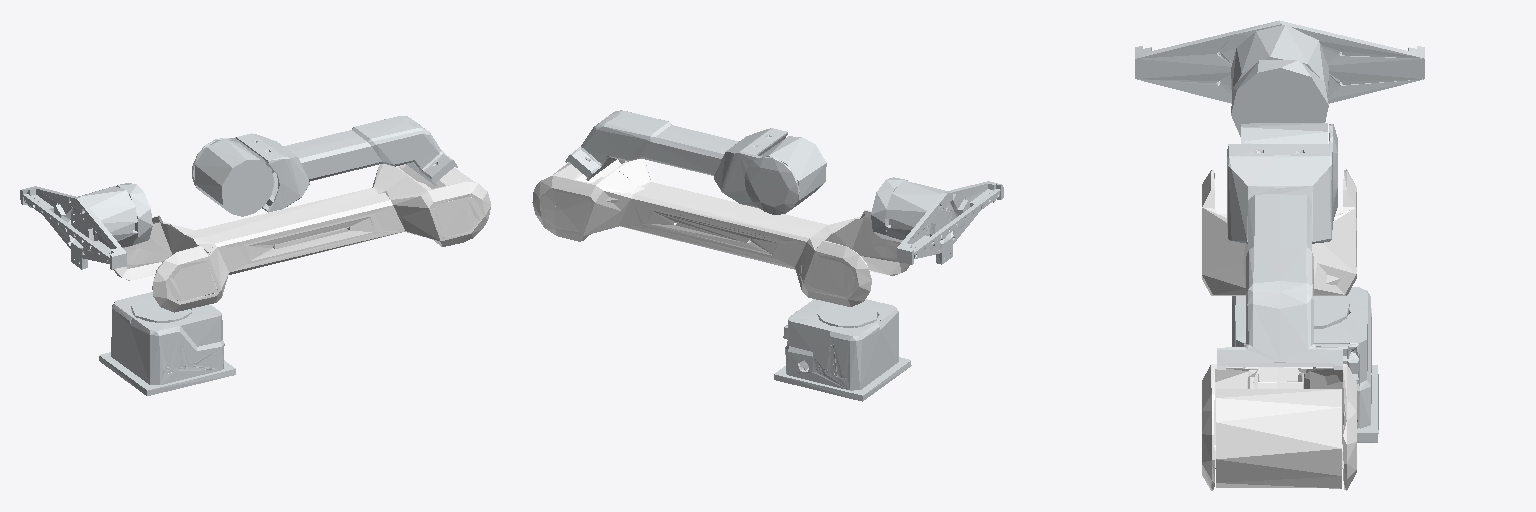
URDF robot description (DM13urdf):
<?xml version="1.0" encoding="utf-8"?>
<!-- This URDF was automatically created by SolidWorks to URDF Exporter! Originally created by Stephen Brawner (brawner@gmail.com) 
     Commit Version: 1.6.0-4-g7f85cfe  Build Version: 1.6.7995.38578
     For more information, please see http://wiki.ros.org/sw_urdf_exporter -->
<robot
  name="DM13urdf">
  <link
    name="base_link">
    <inertial>
      <origin
        xyz="-0.00315616821002854 -0.0126116894909405 0.00120511934338464"
        rpy="0 0 0" />
      <mass
        value="0.509543320656255" />
      <inertia
        ixx="0.000707304187237443"
        ixy="1.30513870445305E-07"
        ixz="1.42159746309957E-07"
        iyy="0.000364325874877072"
        iyz="-7.5777900669889E-09"
        izz="0.000994088190964314" />
    </inertial>
    <visual>
      <origin
        xyz="0 0 0"
        rpy="0 0 0" />
      <geometry>
        <mesh
          filename="../meshes/base_link.STL" />
      </geometry>
      <material
        name="">
        <color
          rgba="0.898039215686275 0.917647058823529 0.929411764705882 1" />
      </material>
    </visual>
    <collision>
      <origin
        xyz="0 0 0"
        rpy="0 0 0" />
      <geometry>
        <mesh
          filename="../meshes/base_link.STL" />
      </geometry>
    </collision>
  </link>
  <link
    name="1_Link">
    <inertial>
      <origin
        xyz="1.23405114324029E-05 -0.00428917013103167 0.0605476254012132"
        rpy="0 0 0" />
      <mass
        value="0.219539513602391" />
      <inertia
        ixx="9.28541806319406E-05"
        ixy="1.18792471975593E-11"
        ixz="9.69533581652565E-09"
        iyy="9.97550236059857E-05"
        iyz="3.90194973983134E-07"
        izz="9.46590737674372E-05" />
    </inertial>
    <visual>
      <origin
        xyz="0 0 0"
        rpy="0 0 0" />
      <geometry>
        <mesh
          filename="../meshes/1_Link.STL" />
      </geometry>
      <material
        name="">
        <color
          rgba="0.2 0.2 0.2 1" />
      </material>
    </visual>
    <collision>
      <origin
        xyz="0 0 0"
        rpy="0 0 0" />
      <geometry>
        <mesh
          filename="../meshes/1_Link.STL" />
      </geometry>
    </collision>
  </link>
  <joint
    name="1joint"
    type="revolute">
    <origin
      xyz="-0.0083638 -0.012614 0.02515"
      rpy="0 0 0" />
    <parent
      link="base_link" />
    <child
      link="1_Link" />
    <axis
      xyz="0 0 1" />
    <limit
      lower="-2.967"
      upper="2.967"
      effort="9"
      velocity="3" />
  </joint>
  <link
    name="2_Link">
    <inertial>
      <origin
        xyz="0.149265454785057 -8.19396080973117E-05 0.00077180382785739"
        rpy="0 0 0" />
      <mass
        value="0.443053528816151" />
      <inertia
        ixx="0.000106963186717597"
        ixy="-1.08866874058497E-05"
        ixz="-3.38505173322429E-08"
        iyy="0.00159752665783631"
        iyz="-7.10996589913717E-09"
        izz="0.00160636440631167" />
    </inertial>
    <visual>
      <origin
        xyz="0 0 0"
        rpy="0 0 0" />
      <geometry>
        <mesh
          filename="../meshes/2_Link.STL" />
      </geometry>
      <material
        name="">
        <color
          rgba="1 1 1 1" />
      </material>
    </visual>
    <collision>
      <origin
        xyz="0 0 0"
        rpy="0 0 0" />
      <geometry>
        <mesh
          filename="../meshes/2_Link.STL" />
      </geometry>
    </collision>
  </link>
  <joint
    name="2joint"
    type="revolute">
    <origin
      xyz="0 0 0.066099"
      rpy="1.5708 0 0" />
    <parent
      link="1_Link" />
    <child
      link="2_Link" />
    <axis
      xyz="0 0 1" />
    <limit
      lower="0"
      upper="3.14"
      effort="9"
      velocity="3" />
  </joint>
  <link
    name="3_Link">
    <inertial>
      <origin
        xyz="0.0343542764390053 0.0922345594895665 -0.00118307558463804"
        rpy="0 0 0" />
      <mass
        value="0.538961975283834" />
      <inertia
        ixx="0.000599951621976629"
        ixy="-5.68061831570934E-05"
        ixz="-2.09166924697164E-08"
        iyy="0.000232773226909755"
        iyz="1.24344585891258E-05"
        izz="0.000677799637668035" />
    </inertial>
    <visual>
      <origin
        xyz="0 0 0"
        rpy="0 0 0" />
      <geometry>
        <mesh
          filename="../meshes/3_Link.STL" />
      </geometry>
      <material
        name="">
        <color
          rgba="0.898039215686275 0.917647058823529 0.929411764705882 1" />
      </material>
    </visual>
    <collision>
      <origin
        xyz="0 0 0"
        rpy="0 0 0" />
      <geometry>
        <mesh
          filename="../meshes/3_Link.STL" />
      </geometry>
    </collision>
  </link>
  <joint
    name="3joint"
    type="revolute">
    <origin
      xyz="0.3 0 0"
      rpy="0 0 1.5708" />
    <parent
      link="2_Link" />
    <child
      link="3_Link" />
    <axis
      xyz="0 0 -1" />
    <limit
      lower="0"
      upper="3.14"
      effort="9"
      velocity="3" />
  </joint>
  <link
    name="4_Link">
    <inertial>
      <origin
        xyz="0.0399751611945109 0.0595067395209513 0.00427459978833224"
        rpy="0 0 0" />
      <mass
        value="0.209930469275193" />
      <inertia
        ixx="7.77290136088297E-05"
        ixy="4.99161244923018E-08"
        ixz="1.33875494107831E-06"
        iyy="6.63668590668454E-05"
        iyz="2.28078101356354E-08"
        izz="7.63825198092629E-05" />
    </inertial>
    <visual>
      <origin
        xyz="0 0 0"
        rpy="0 0 0" />
      <geometry>
        <mesh
          filename="../meshes/4_Link.STL" />
      </geometry>
      <material
        name="">
        <color
          rgba="0.898039215686275 0.917647058823529 0.929411764705882 1" />
      </material>
    </visual>
    <collision>
      <origin
        xyz="0 0 0"
        rpy="0 0 0" />
      <geometry>
        <mesh
          filename="../meshes/4_Link.STL" />
      </geometry>
    </collision>
  </link>
  <joint
    name="4joint"
    type="revolute">
    <origin
      xyz="0.057 0.22 0"
      rpy="0 0 0" />
    <parent
      link="3_Link" />
    <child
      link="4_Link" />
    <axis
      xyz="0 0 1" />
    <limit
      lower="-1.57"
      upper="1.57"
      effort="3"
      velocity="3" />
  </joint>
  <link
    name="5_Link">
    <inertial>
      <origin
        xyz="-0.00202900893934295 7.81689950761499E-06 -0.0521786606306489"
        rpy="0 0 0" />
      <mass
        value="0.179231232430523" />
      <inertia
        ixx="6.78621501414178E-05"
        ixy="1.09228077569469E-08"
        ixz="8.33943443253674E-08"
        iyy="5.69014377087721E-05"
        iyz="-5.87224804519854E-09"
        izz="6.44817460555691E-05" />
    </inertial>
    <visual>
      <origin
        xyz="0 0 0"
        rpy="0 0 0" />
      <geometry>
        <mesh
          filename="../meshes/5_Link.STL" />
      </geometry>
      <material
        name="">
        <color
          rgba="0.898039215686275 0.917647058823529 0.929411764705882 1" />
      </material>
    </visual>
    <collision>
      <origin
        xyz="0 0 0"
        rpy="0 0 0" />
      <geometry>
        <mesh
          filename="../meshes/5_Link.STL" />
      </geometry>
    </collision>
  </link>
  <joint
    name="5joint"
    type="revolute">
    <origin
      xyz="0.06076 0.08 0"
      rpy="-1.5708 0 -1.5708" />
    <parent
      link="4_Link" />
    <child
      link="5_Link" />
    <axis
      xyz="0 0 -1" />
    <limit
      lower="-1.57"
      upper="1.57"
      effort="3"
      velocity="3" />
  </joint>
  <link
    name="6_Link">
    <inertial>
      <origin
        xyz="-5.12935660638633E-07 0.000315932413881809 0.0584362637438338"
        rpy="0 0 0" />
      <mass
        value="0.240928180233382" />
      <inertia
        ixx="6.9012891461221E-05"
        ixy="1.87519921499042E-09"
        ixz="-8.64676128701294E-11"
        iyy="0.000150394404426466"
        iyz="8.3744238143819E-08"
        izz="0.000177816525457933" />
    </inertial>
    <visual>
      <origin
        xyz="0 0 0"
        rpy="0 0 0" />
      <geometry>
        <mesh
          filename="../meshes/6_Link.STL" />
      </geometry>
      <material
        name="">
        <color
          rgba="0.898039215686275 0.917647058823529 0.929411764705882 1" />
      </material>
    </visual>
    <collision>
      <origin
        xyz="0 0 0"
        rpy="0 0 0" />
      <geometry>
        <mesh
          filename="../meshes/6_Link.STL" />
      </geometry>
    </collision>
  </link>
  <joint
    name="6joint"
    type="revolute">
    <origin
      xyz="0.00025999 0 -0.06076"
      rpy="1.5708 0 -1.5708" />
    <parent
      link="5_Link" />
    <child
      link="6_Link" />
    <axis
      xyz="0 0 -1" />
    <limit
      lower="-1.57"
      upper="1.57"
      effort="3"
      velocity="3" />
  </joint>
</robot>

--- Facts derived from the render (not from the file) ---
3 views of the same robot in one strip: view 1: azimuth 30°, elevation 25°; view 2: azimuth 150°, elevation 25°; view 3: azimuth 270°, elevation 25° (orthographic).
Robot: DM13urdf — 7 links, 6 joints (6 revolute); root link base_link; default pose: every joint at zero.
Visible links, largest first — view 1: 2_Link, 3_Link, base_link, 6_Link; view 2: 2_Link, 3_Link, base_link, 6_Link; view 3: 2_Link, 3_Link, 6_Link, base_link.
Link boxes in pixels (left/top/right/bottom): 2_Link: left=113, top=164, right=490, bottom=312; 3_Link: left=192, top=116, right=457, bottom=216; base_link: left=99, top=292, right=235, bottom=395; 6_Link: left=20, top=183, right=152, bottom=269; 2_Link: left=532, top=159, right=910, bottom=306; 3_Link: left=565, top=110, right=826, bottom=214; base_link: left=774, top=299, right=911, bottom=401; 6_Link: left=871, top=177, right=1003, bottom=264; 2_Link: left=1202, top=169, right=1356, bottom=490; 3_Link: left=1217, top=123, right=1342, bottom=369; 6_Link: left=1135, top=20, right=1424, bottom=136; base_link: left=1232, top=287, right=1378, bottom=442.
Size in the robot's own frame: 0.4315 by 0.1696 by 0.2116 metres.
Meshes: 7 distinct files referenced, 4 mesh visuals loaded (4 binary STL); not drawn: 3 (reference not matched to a file when rendering).
